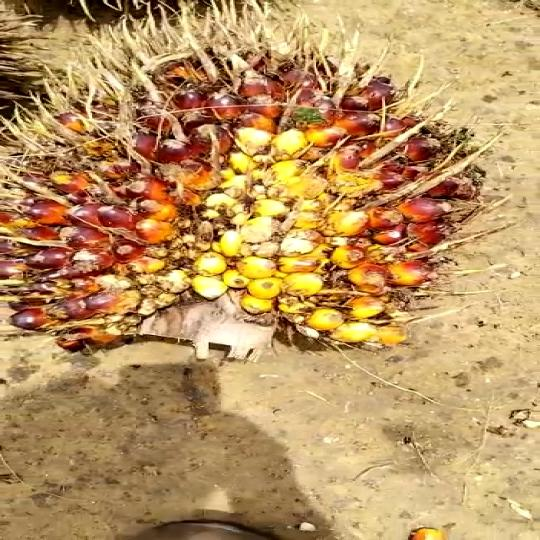masak: (13, 29, 475, 372)
